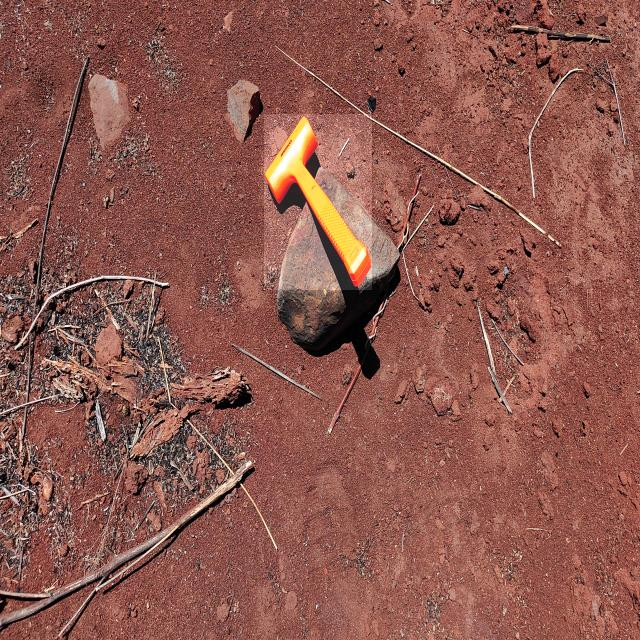Orange_hammer: (264, 114, 372, 290)
